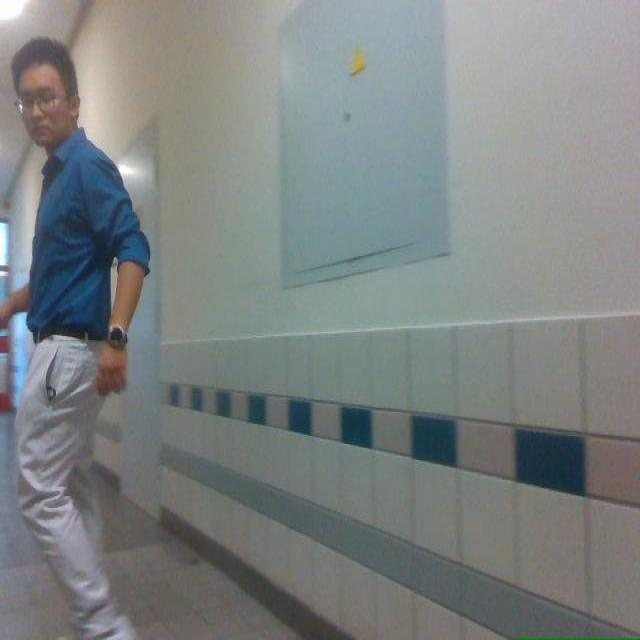humans: (0, 37, 149, 639)
